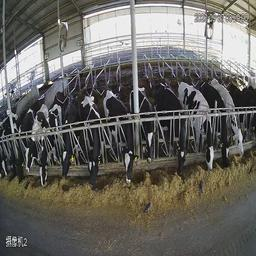cow: (130, 78, 165, 191), (181, 77, 217, 184), (156, 77, 190, 187), (104, 85, 136, 196), (59, 88, 86, 189), (80, 84, 105, 193), (37, 88, 59, 192), (15, 87, 33, 192), (4, 96, 20, 192), (220, 95, 234, 173), (235, 95, 248, 167)
